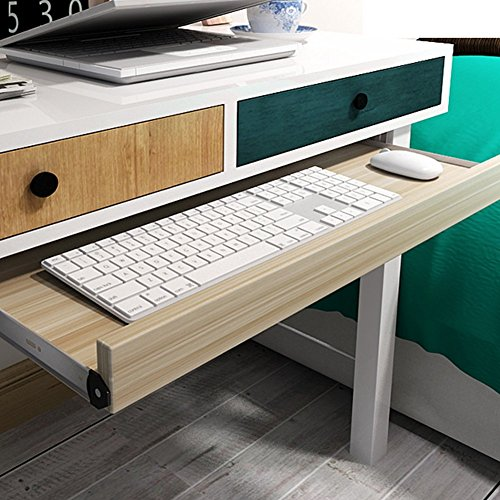Teclado: (40, 164, 401, 325)
